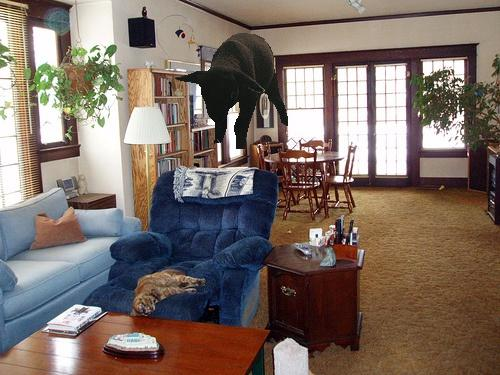tampered: (176, 34, 288, 149)
